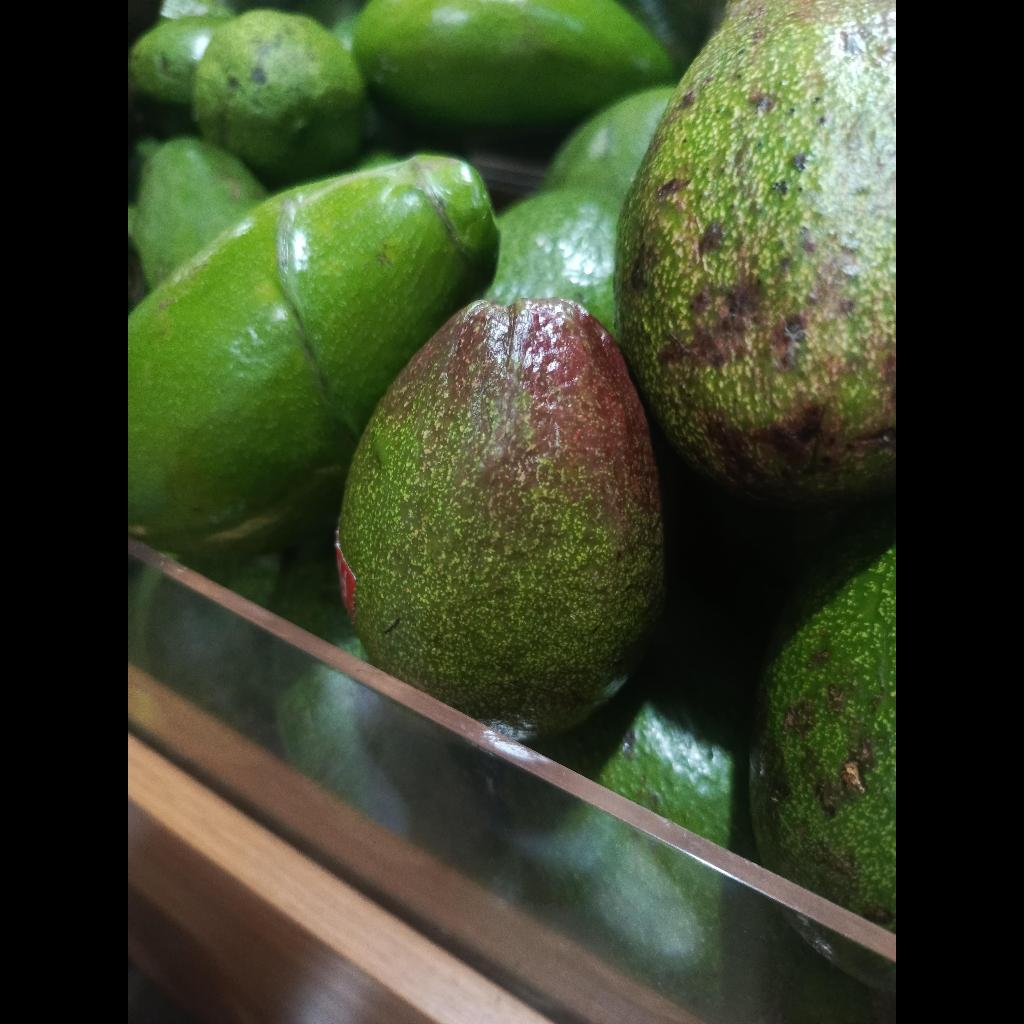healthy: (128, 157, 497, 555), (339, 299, 663, 737), (841, 760, 865, 793)
scab: (615, 0, 896, 505), (750, 503, 896, 933), (193, 9, 365, 185)
